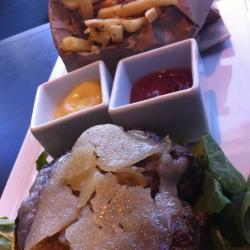fries: (64, 1, 177, 41)
ketchup: (112, 53, 203, 114)
